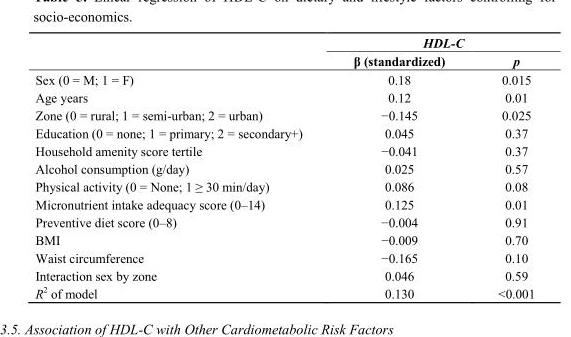table: (34, 35, 534, 300)
table column: (34, 35, 327, 300), (327, 35, 470, 300), (470, 35, 534, 300)
table column header: (34, 35, 534, 69)
table row: (34, 69, 534, 88), (34, 51, 534, 69), (34, 105, 534, 123), (34, 123, 534, 141), (34, 141, 534, 159), (34, 159, 534, 177), (34, 177, 534, 195), (34, 212, 534, 230), (34, 230, 534, 248), (34, 248, 534, 266), (34, 88, 534, 105), (34, 195, 534, 212), (34, 266, 534, 283), (34, 283, 534, 300), (34, 35, 534, 51)
table spanning cell: (327, 35, 534, 51)
